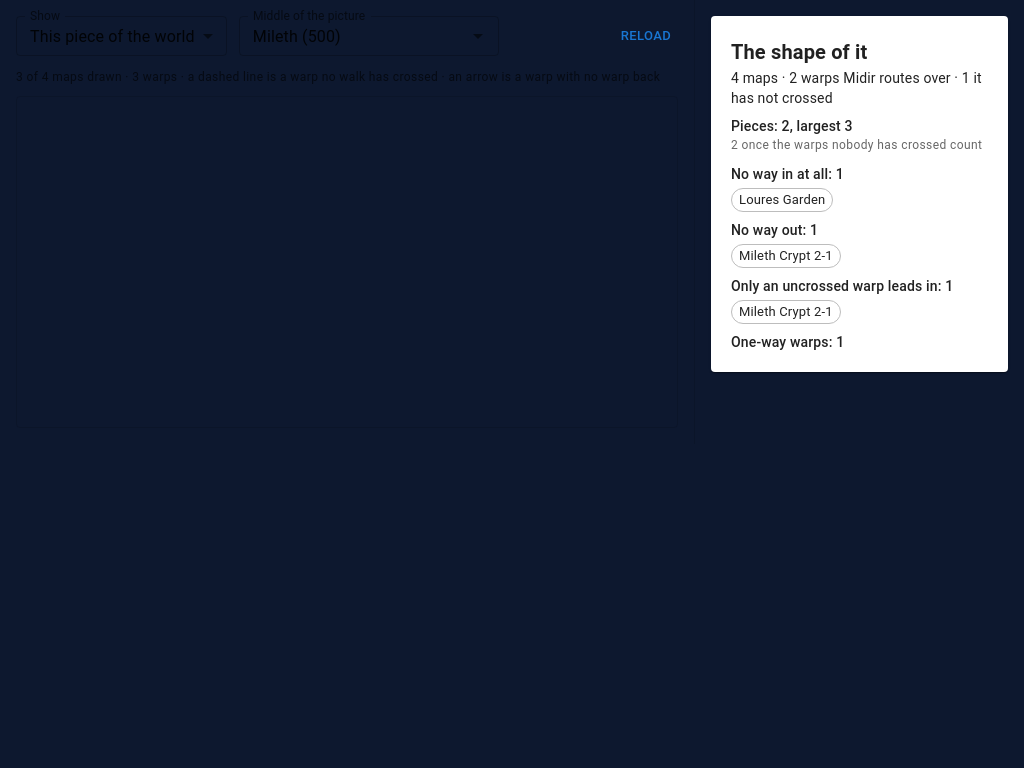
Test: the world graph view › says plainly when nothing leads to a map
Expected: the element with test id "graph-report" is shown, [711, 16, 1008, 372]
Step 1. Click the button "Loures Garden" → coordinates (782, 200), box [731, 188, 833, 212]
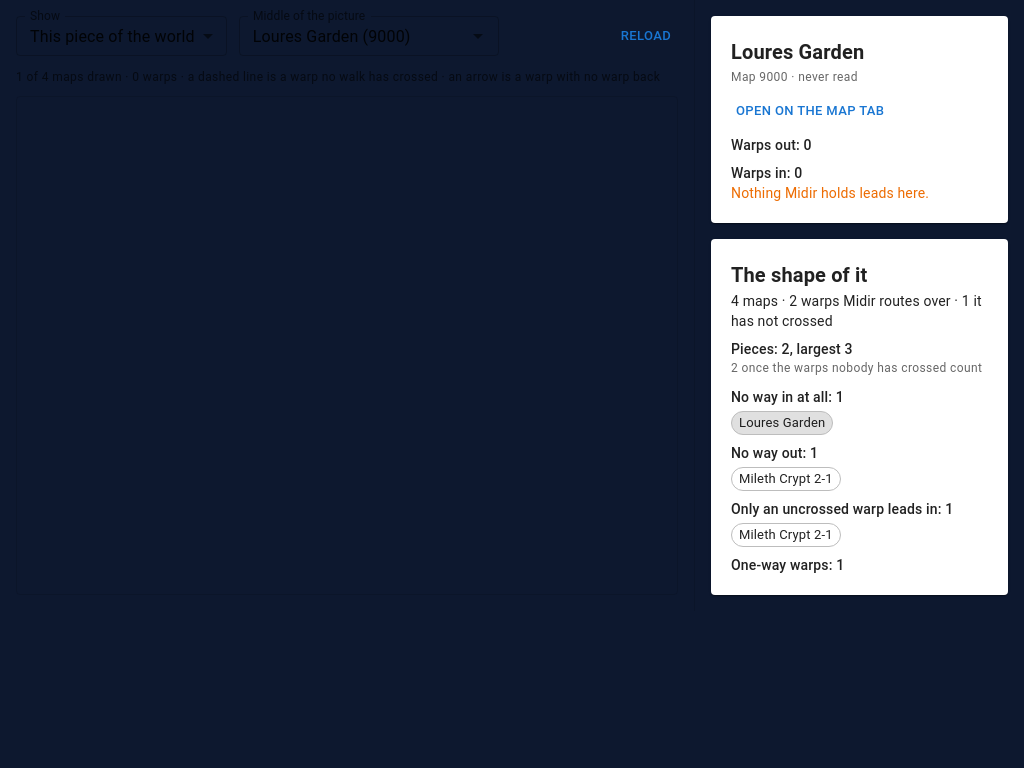
Result: the text "Nothing Midir holds leads here." is shown at [731, 185, 929, 201]
